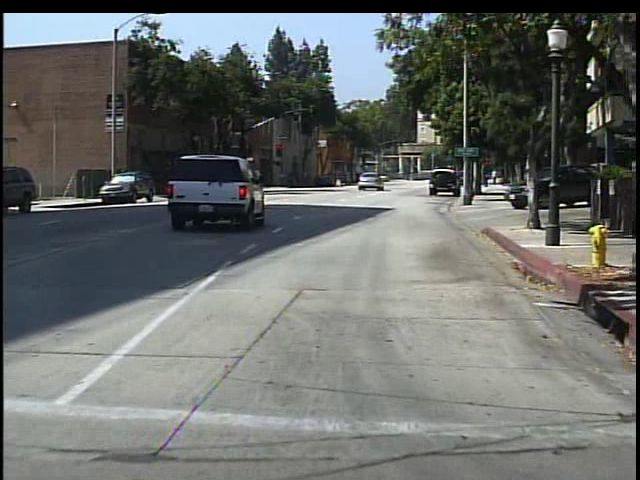person: (331, 169, 347, 190), (490, 168, 500, 188)
